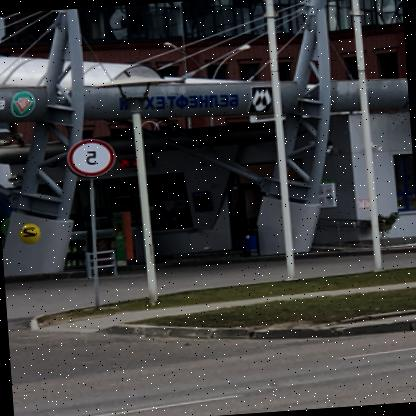speedlimit: (67, 136, 119, 178)
